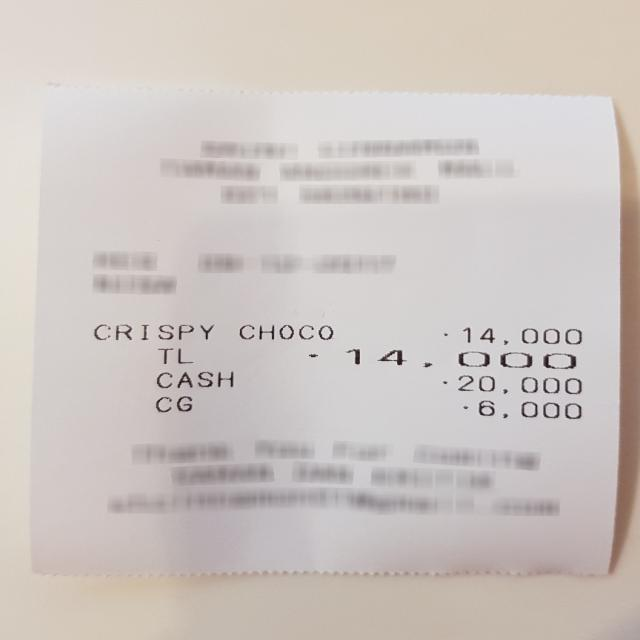kertas: (30, 86, 625, 585)
